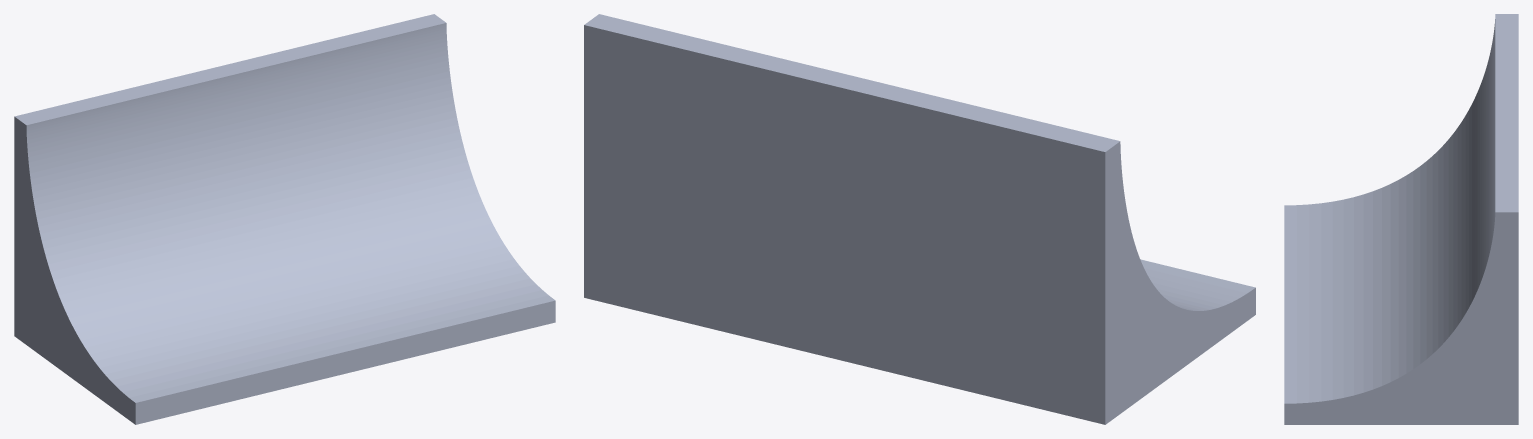
File: scoop.glb
The picture shows the model from 3 angles, left to right: view 1: azimuth 30°, elevation 25°; view 2: azimuth 150°, elevation 25°; view 3: azimuth 270°, elevation 25°; orthographic projection. The views are drawn at different scales.
Parts seen in each view (by area): view 1: Mesh_Mesh_head_geo.001_lambert2SG.001; view 2: Mesh_Mesh_head_geo.001_lambert2SG.001; view 3: Mesh_Mesh_head_geo.001_lambert2SG.001.
Boxes of the visible parts, x1,y1,x2,y2 form: Mesh_Mesh_head_geo.001_lambert2SG.001: (14,14,555,424); Mesh_Mesh_head_geo.001_lambert2SG.001: (584,14,1255,424); Mesh_Mesh_head_geo.001_lambert2SG.001: (1284,14,1518,424).
Bounding box in the file's own units: 0.04 × 0.02 × 0.02.
